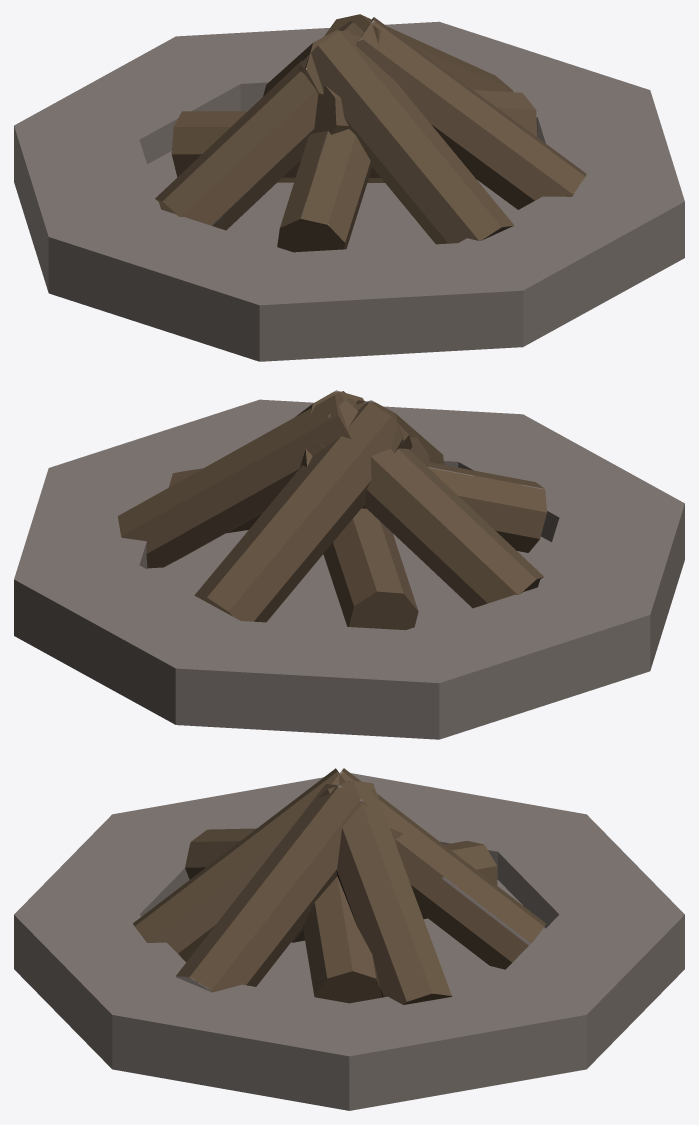
The model's file is goblin_campfire.fbx.
3 views of the same model, one above another, from view 1: azimuth 30°, elevation 25°; view 2: azimuth 150°, elevation 25°; view 3: azimuth 270°, elevation 25° (orthographic). The views are drawn at different scales.
Parts seen in each view (by area): view 1: Cylinder.004; view 2: Cylinder.004; view 3: Cylinder.004.
Part boxes in pixels (bbox=[...]): Cylinder.004: bbox=[14, 14, 684, 361]; Cylinder.004: bbox=[14, 390, 684, 739]; Cylinder.004: bbox=[14, 768, 684, 1110].
Size of the model in its own units: 197 by 63.04 by 197.
1 material, 1 textured.
